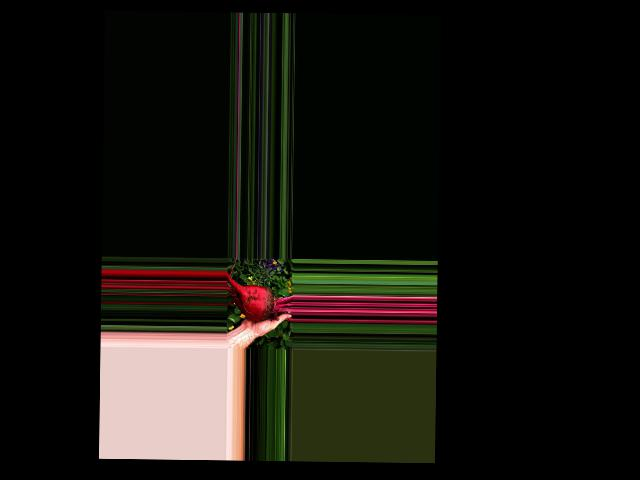beet: (225, 271, 293, 321)
